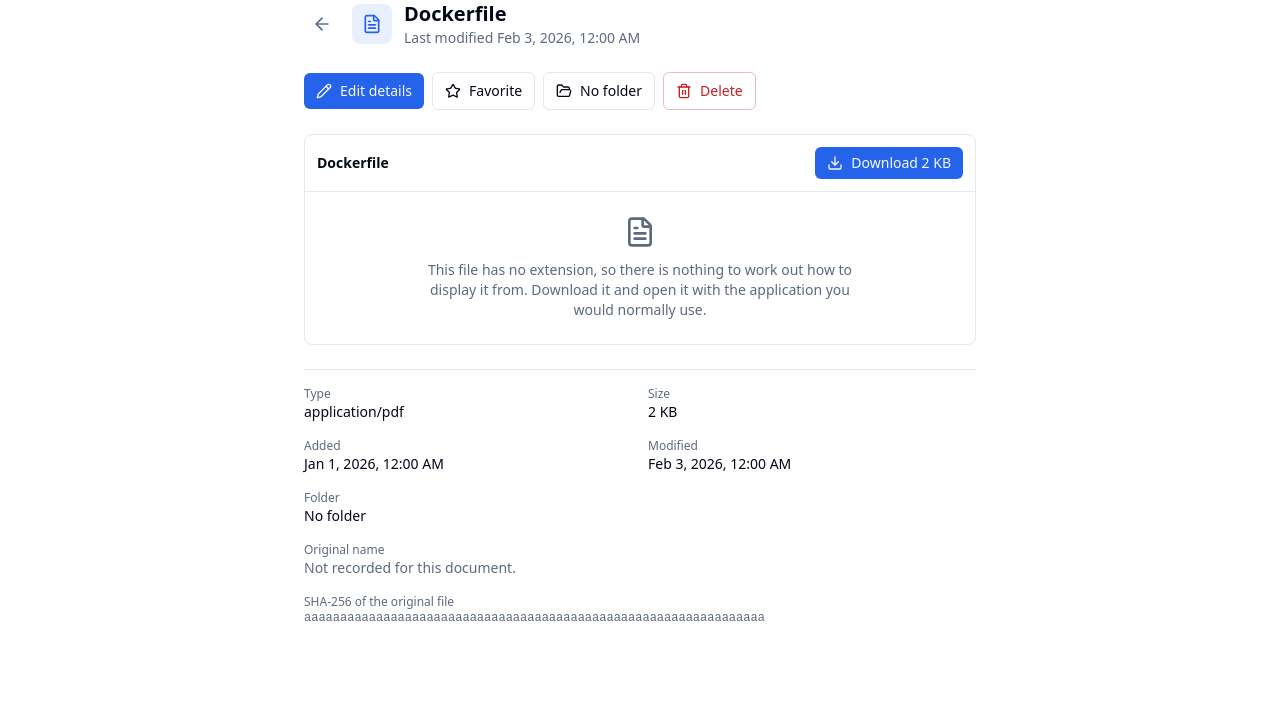
Test: DocumentDetail — editing name, tags and note › shows a document with no extension whole, with nothing fixed beside it
Click the button "Edit details" at (364, 91), box x1=304 y1=73 x2=424 y2=109
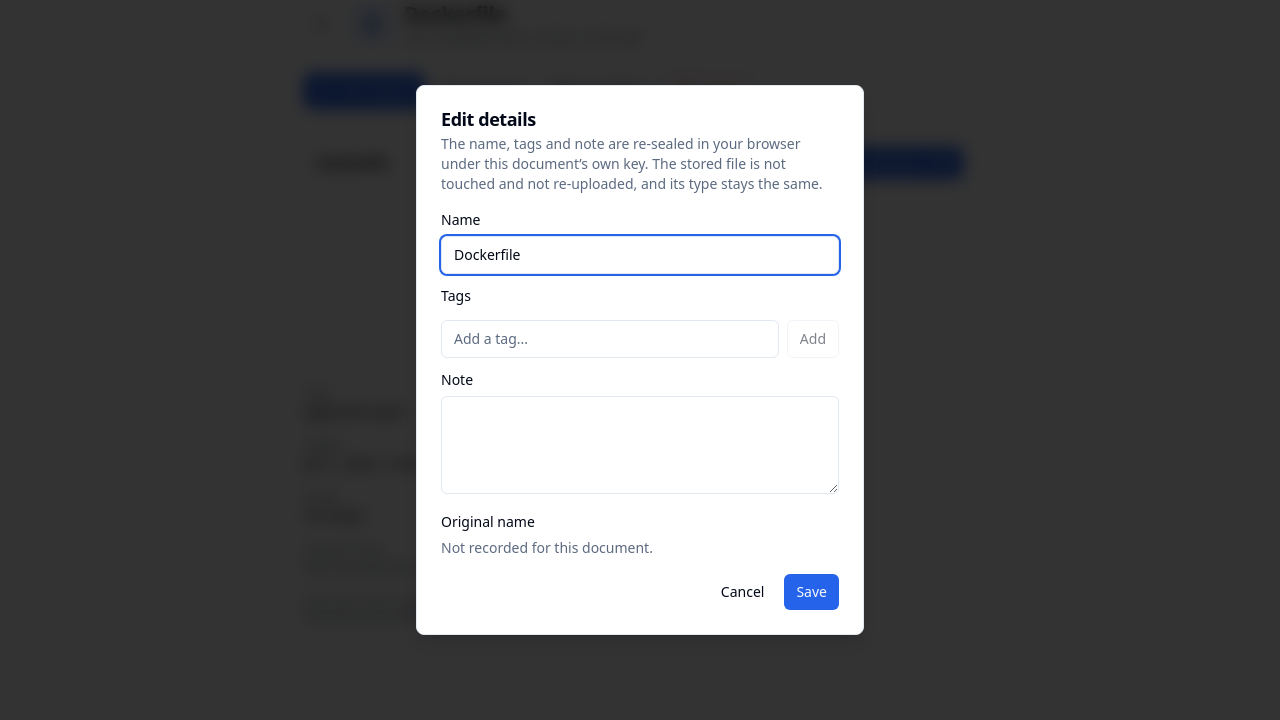
expect the field labelled "Name" holds "Dockerfile": met, box x1=441 y1=236 x2=839 y2=274
